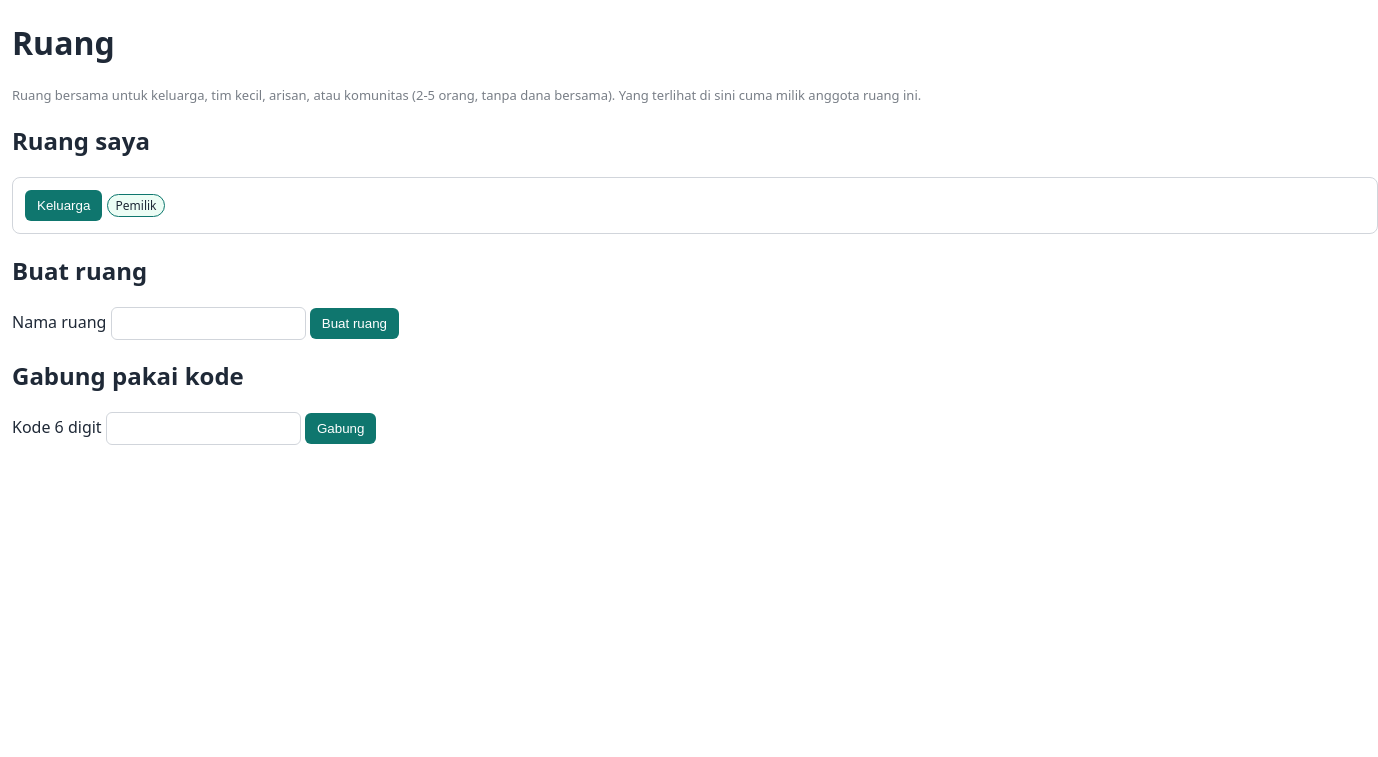
it: RoomsScreen group chat names (V2-27) › saves the caller's display name from the edit form
Click the button "Keluarga" at {"x": 64, "y": 205}, box [25, 190, 102, 221]
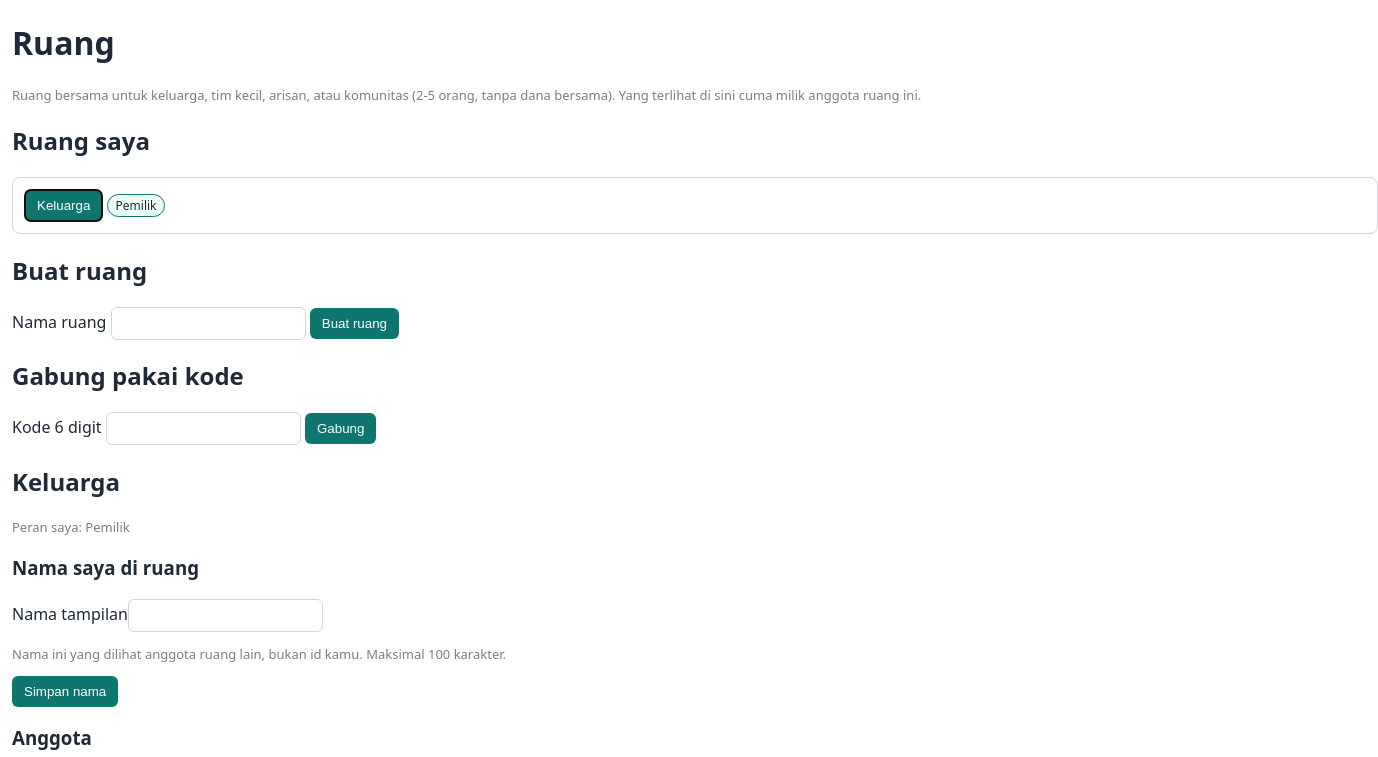
Type "Rani" into the field labelled "Nama tampilan" at {"x": 225, "y": 615}, box [128, 599, 323, 632]
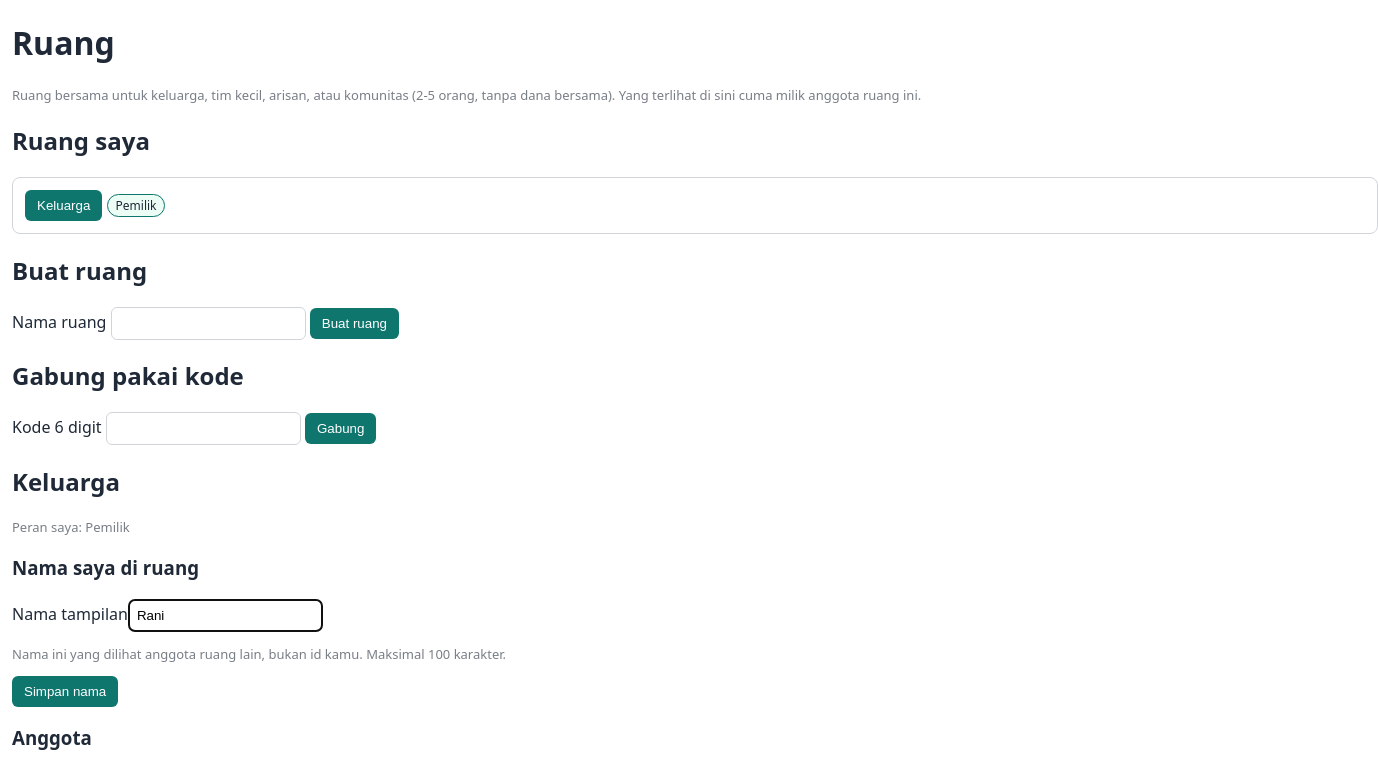
Click the button "Simpan nama" at {"x": 65, "y": 691}, box [12, 676, 118, 707]
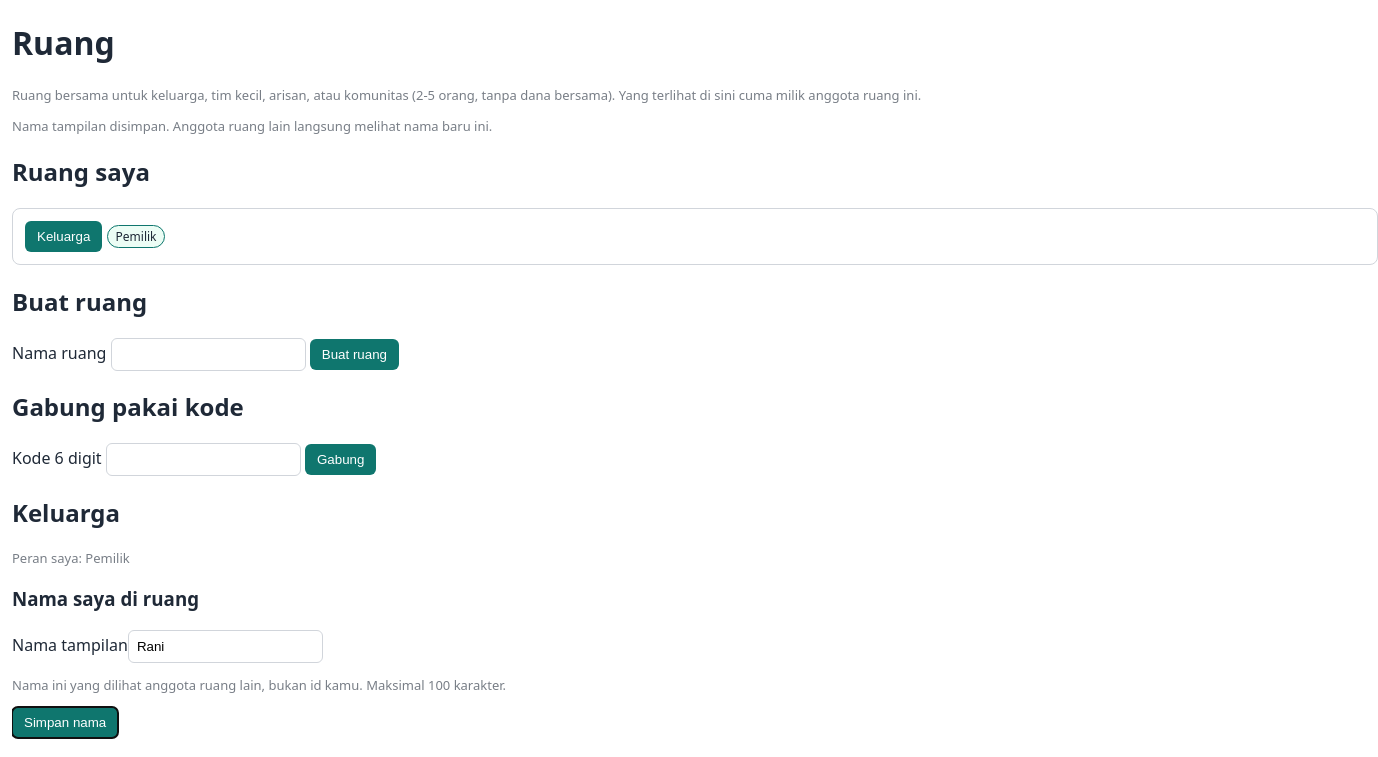
Result: the text "Nama tampilan disimpan" is shown at [12, 117, 492, 135]
